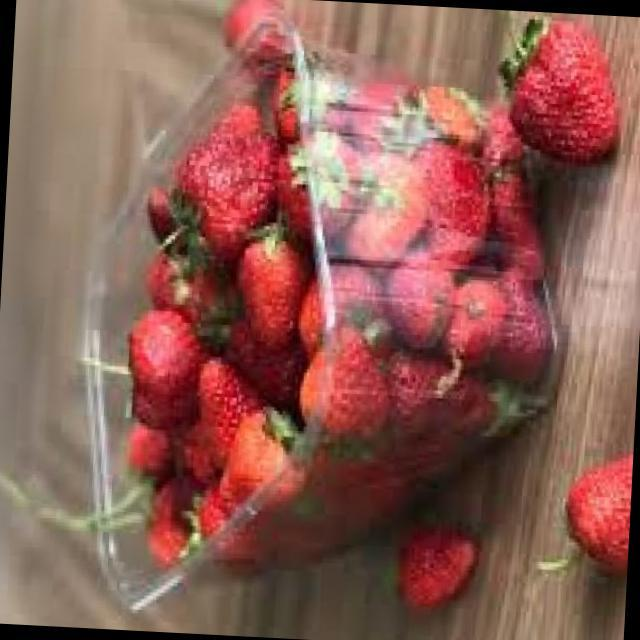strawberries: (33, 15, 597, 634)
